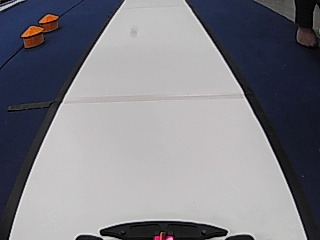granary: (20, 24, 45, 49), (39, 12, 59, 33)
